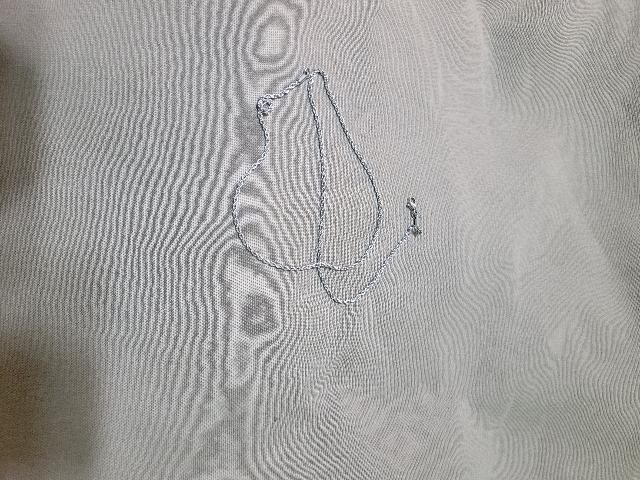Metal: (228, 63, 426, 311)
